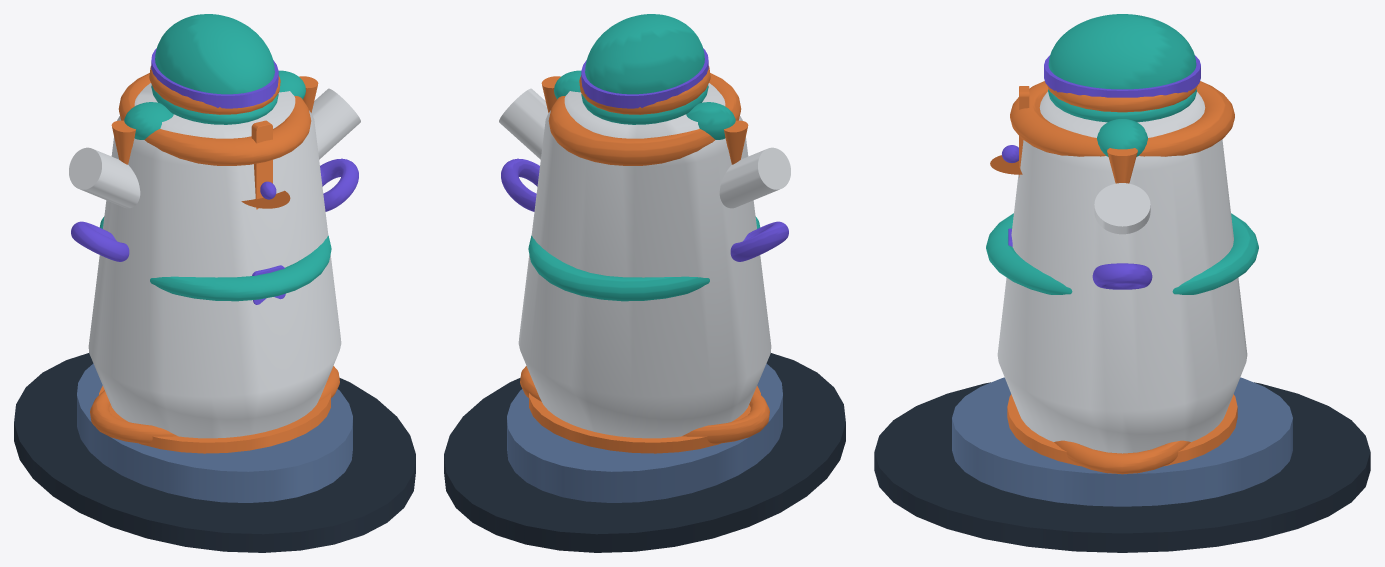
The model's file is 1197_唐图鉴_法门寺地宫茶具.glb.
3 views of the same model, side by side, from view 1: azimuth 30°, elevation 25°; view 2: azimuth 150°, elevation 25°; view 3: azimuth 270°, elevation 25° (orthographic). The views are drawn at different scales.
Parts seen in each view (by area): view 1: card_1197; view 2: card_1197; view 3: card_1197.
Part boxes in pixels (bbox=[...]): card_1197: bbox=[14, 14, 415, 552]; card_1197: bbox=[444, 14, 845, 552]; card_1197: bbox=[874, 14, 1370, 552].
Bounding box in the file's own units: 0.7792 × 1 × 0.9968.
